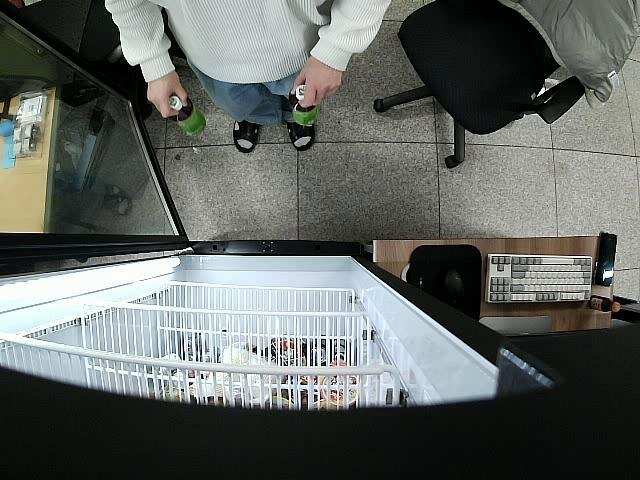19_17cha: (169, 95, 207, 137), (292, 86, 321, 132)
